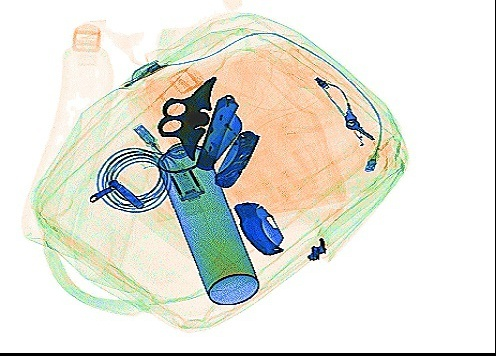knife: (192, 90, 242, 170), (209, 127, 260, 188), (231, 198, 284, 255)
lighter: (197, 97, 250, 151)
pressure: (155, 140, 259, 305)
